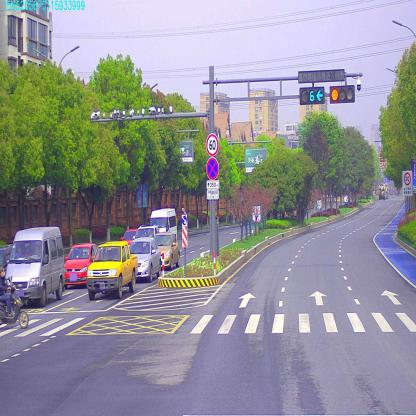traffic-light: (332, 84, 354, 101), (299, 88, 323, 100)
